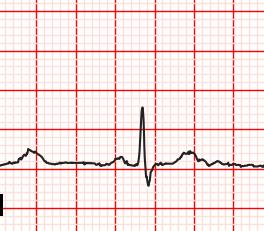ST Depression: (124, 159, 164, 189)
